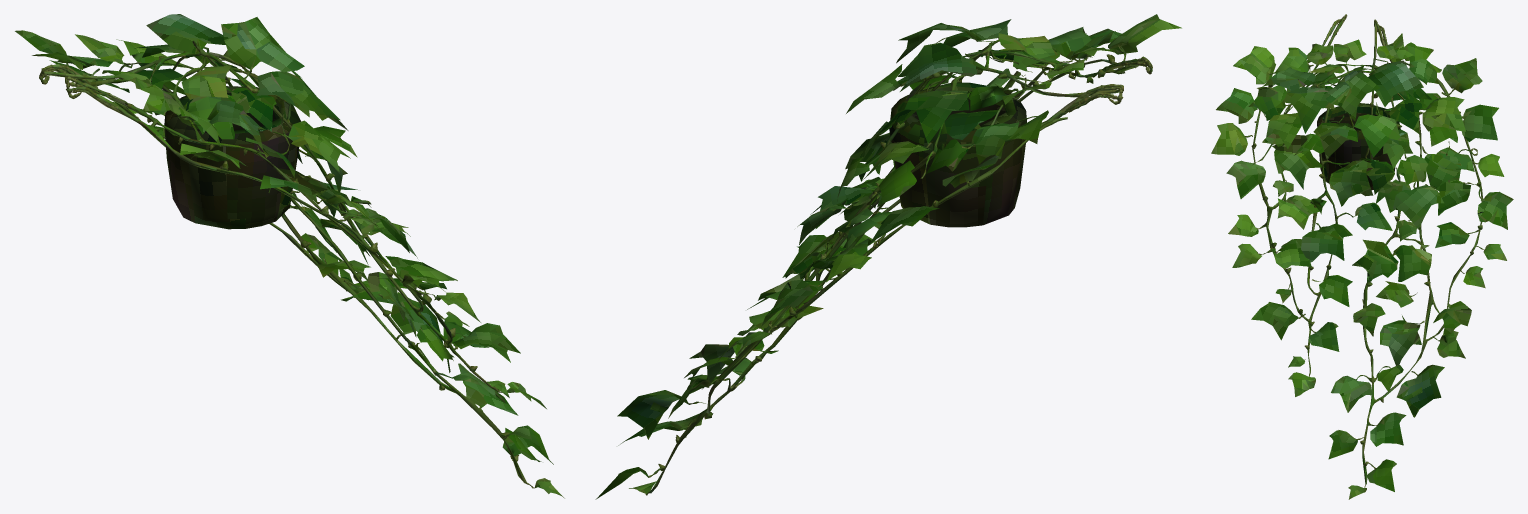
The model's file is vine-branch-b.lod2.glb.
3 views of the same model, side by side, from view 1: azimuth 30°, elevation 25°; view 2: azimuth 150°, elevation 25°; view 3: azimuth 270°, elevation 25° (orthographic). The views are drawn at different scales.
Parts seen in each view (by area): view 1: Object_4; view 2: Object_4; view 3: Object_4.
Boxes of the visible parts, x1,y1,x2,y2 form: Object_4: (15, 14, 564, 498); Object_4: (595, 14, 1181, 499); Object_4: (1211, 14, 1513, 499).
Size of the model in its own units: 2.93 by 3 by 2.45.
Materials: 1 (1 with a texture image).
